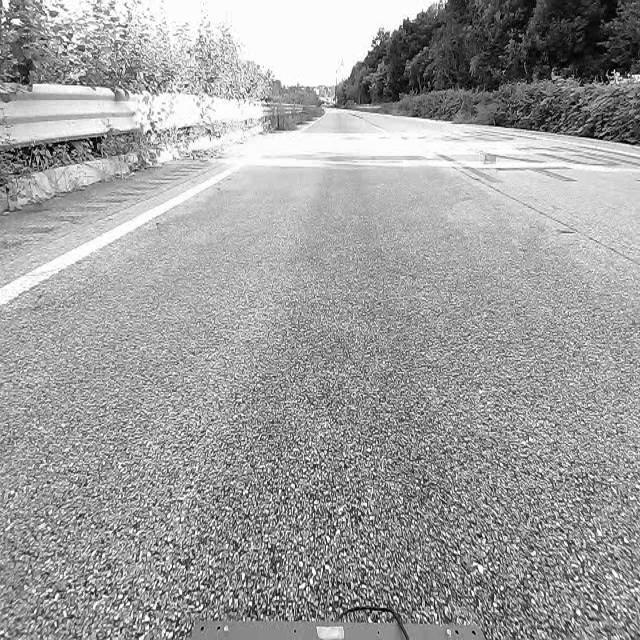Lane: (2, 156, 250, 306), (0, 163, 243, 307)
